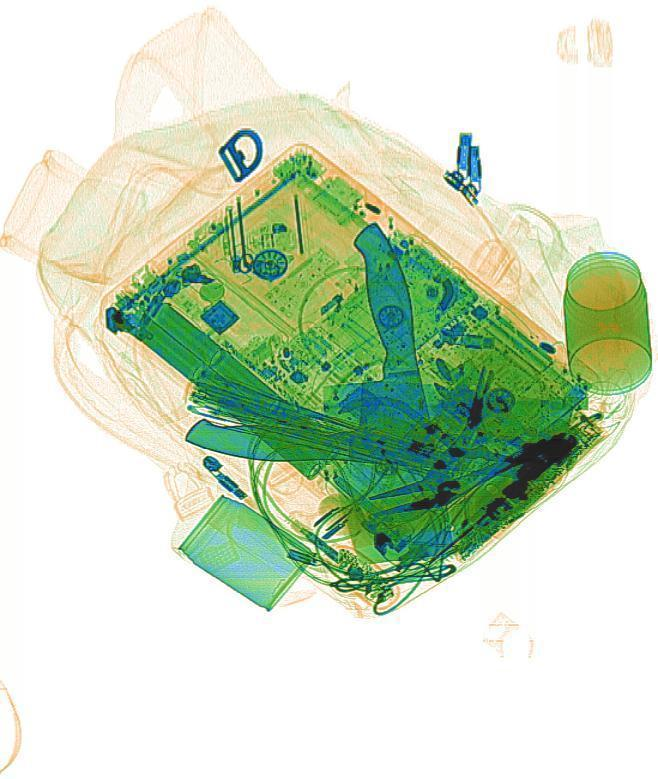Knife: (287, 217, 461, 575), (186, 368, 571, 479)
